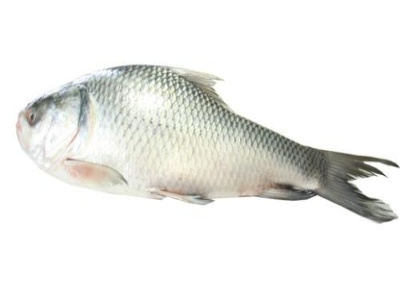rohu: (6, 63, 398, 244)
